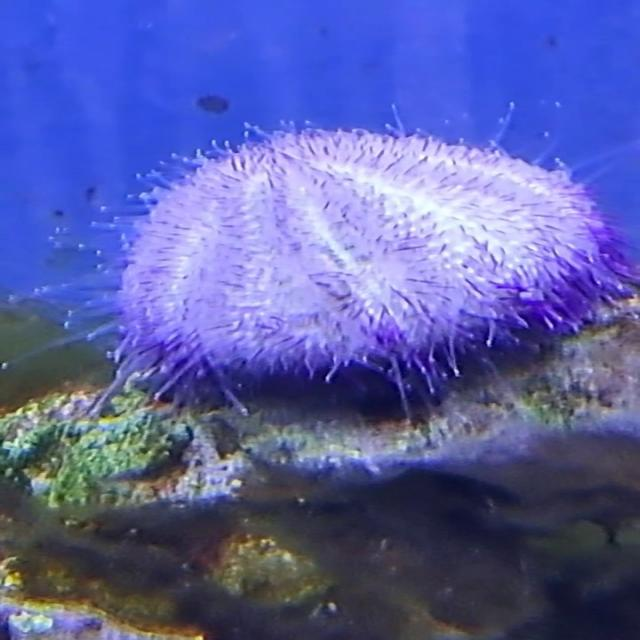Deniz Kestanesi: (61, 99, 631, 421)
